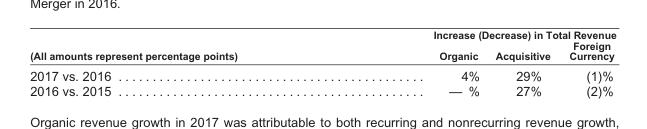table: (29, 28, 615, 97)
table column: (29, 28, 334, 97), (334, 28, 486, 97), (486, 28, 559, 97), (559, 28, 615, 97)
table column header: (29, 28, 615, 64)
table row: (29, 39, 615, 64), (29, 64, 615, 82), (29, 82, 615, 97), (29, 28, 615, 39)
table spanning cell: (29, 28, 334, 64), (334, 28, 615, 39)
